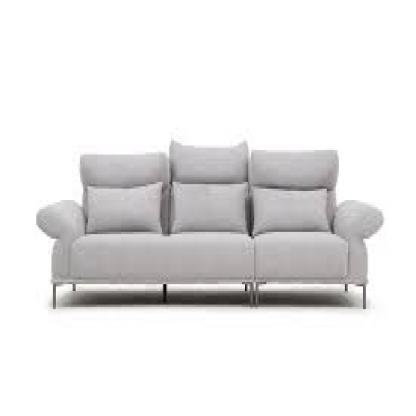sofa: (38, 141, 374, 316)
